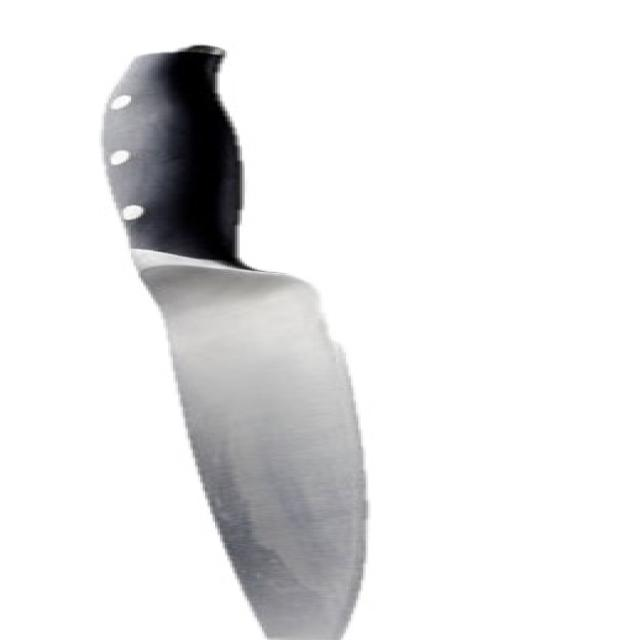knife: (71, 29, 486, 639)
